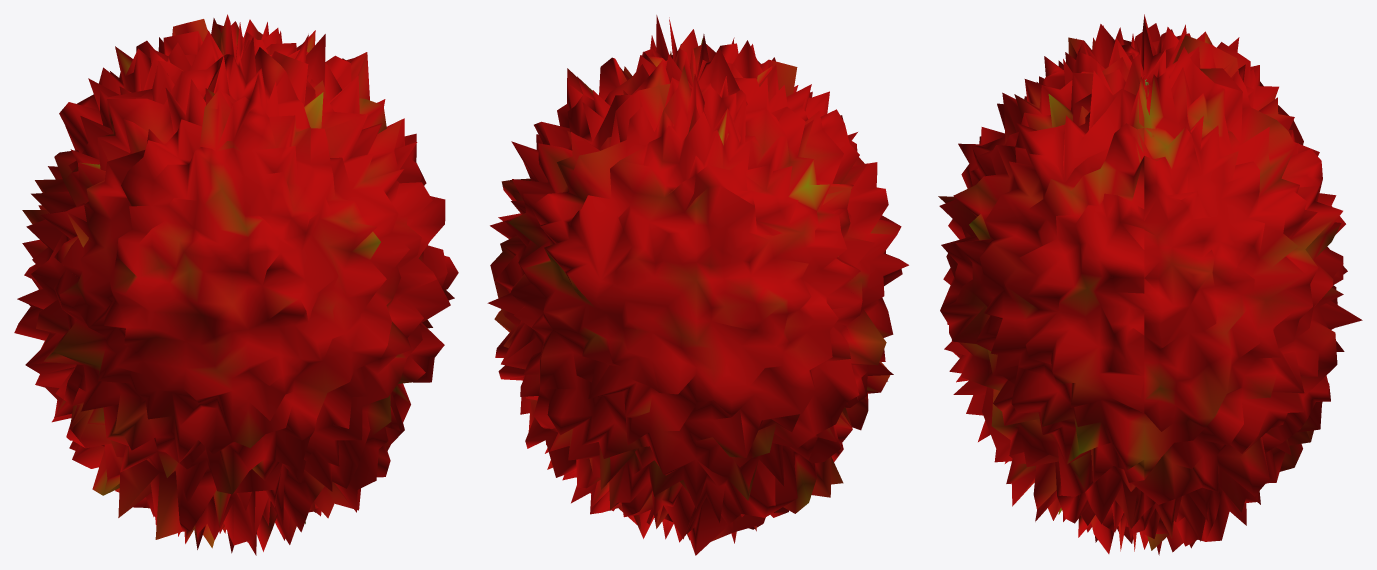
The model's file is ramboutan.glb.
The picture shows the model from 3 angles, left to right: view 1: azimuth 30°, elevation 25°; view 2: azimuth 150°, elevation 25°; view 3: azimuth 270°, elevation 25°; orthographic projection. The views are drawn at different scales.
Visible parts, largest first — view 1: entier_peau, moitie_B_peau, moitie_A_peau; view 2: entier_peau, moitie_A_peau, moitie_B_peau; view 3: entier_peau, moitie_B_peau, moitie_A_peau.
Boxes of the visible parts, x1,y1,x2,y2 form: entier_peau: (14, 15, 458, 553); moitie_B_peau: (44, 31, 454, 555); moitie_A_peau: (20, 14, 353, 533); entier_peau: (493, 33, 908, 543); moitie_A_peau: (487, 51, 860, 555); moitie_B_peau: (537, 15, 907, 497); entier_peau: (939, 14, 1362, 553); moitie_B_peau: (938, 17, 1144, 548); moitie_A_peau: (1144, 16, 1361, 555).
Bounding box in the file's own units: 1.96 × 2.51 × 1.89.
